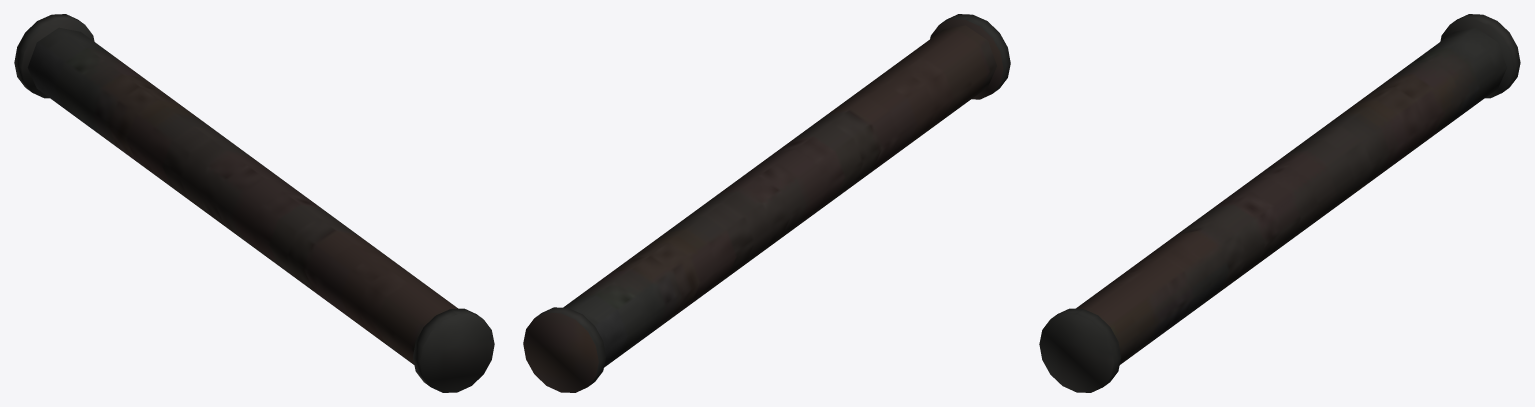
The model's file is pipe_straight.glb.
3 renders of one model, left to right at view 1: azimuth 30°, elevation 25°; view 2: azimuth 150°, elevation 25°; view 3: azimuth 330°, elevation 25°, orthographic.
Visible parts, largest first — view 1: pipe_straight; view 2: pipe_straight; view 3: pipe_straight.
Boxes of the visible parts, bbox=[...] form: pipe_straight: bbox=[14, 14, 494, 392]; pipe_straight: bbox=[523, 14, 1010, 392]; pipe_straight: bbox=[1039, 14, 1520, 392].
Size of the model in its own units: 0.3839 by 0.3944 by 3.6.
1 material, 1 textured.
